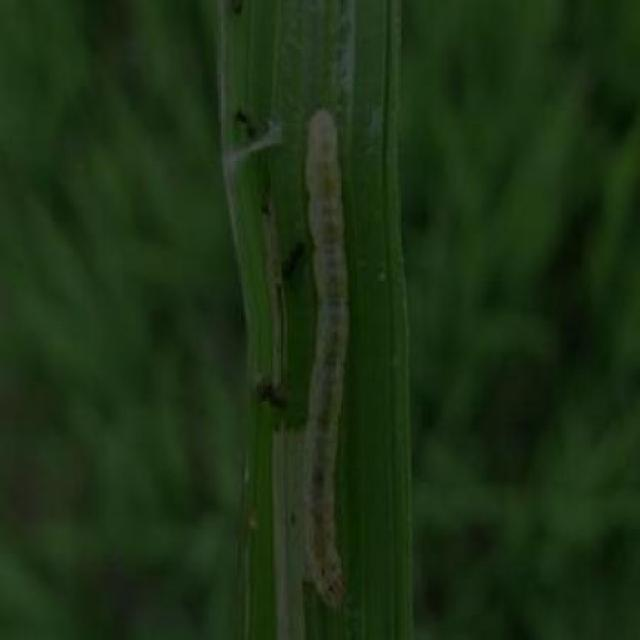leaf-folder: (277, 106, 371, 640)
